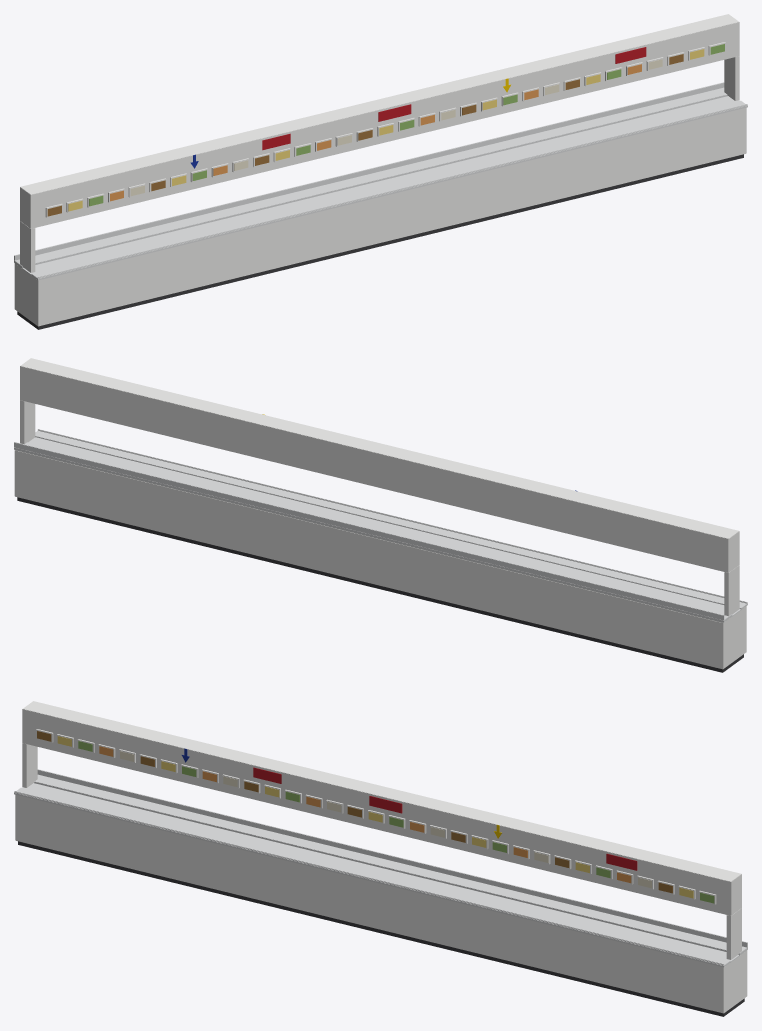
Rendered from Order Pickup Counter.glb.
The picture shows the model from 3 angles, top to bottom: view 1: azimuth 30°, elevation 25°; view 2: azimuth 150°, elevation 25°; view 3: azimuth 330°, elevation 25°; orthographic projection.
Visible parts, largest first — view 1: Pass_Cabinet, Pass_Header, Pass_Top_Rear, Pass_Top_Trough, Pass_Top_Front, Pass_BackUpstand, Pass_ToeKick, Pass_FrontLip, Pass_Jamb_L, Pass_Jamb_R; view 2: Pass_Cabinet, Pass_Header, Pass_Top_Front, Pass_Top_Trough, Pass_Top_Rear, Pass_BackUpstand, Pass_ToeKick, Pass_FrontLip, Pass_Jamb_L, Pass_Jamb_R; view 3: Pass_Cabinet, Pass_Header, Pass_Top_Rear, Pass_Top_Trough, Pass_Top_Front, Pass_BackUpstand, Pass_ToeKick, Pass_FrontLip, Pass_Jamb_R, Pass_Jamb_L.
Boxes of the visible parts, x1=… form: Pass_Cabinet: x1=14, y1=107, x2=746, y2=326; Pass_Header: x1=20, y1=14, x2=739, y2=228; Pass_Top_Rear: x1=14, y1=87, x2=727, y2=268; Pass_Top_Trough: x1=22, y1=96, x2=739, y2=275; Pass_Top_Front: x1=31, y1=101, x2=747, y2=280; Pass_BackUpstand: x1=14, y1=82, x2=724, y2=260; Pass_ToeKick: x1=17, y1=154, x2=743, y2=329; Pass_FrontLip: x1=37, y1=104, x2=747, y2=278; Pass_Jamb_L: x1=20, y1=221, x2=35, y2=272; Pass_Jamb_R: x1=724, y1=56, x2=739, y2=100; Pass_Cabinet: x1=14, y1=450, x2=746, y2=669; Pass_Header: x1=20, y1=358, x2=739, y2=572; Pass_Top_Front: x1=35, y1=430, x2=747, y2=609; Pass_Top_Trough: x1=28, y1=437, x2=741, y2=616; Pass_Top_Rear: x1=14, y1=442, x2=732, y2=622; Pass_BackUpstand: x1=14, y1=442, x2=724, y2=620; Pass_ToeKick: x1=17, y1=497, x2=743, y2=672; Pass_FrontLip: x1=38, y1=429, x2=747, y2=603; Pass_Jamb_L: x1=724, y1=565, x2=739, y2=616; Pass_Jamb_R: x1=20, y1=400, x2=35, y2=444; Pass_Cabinet: x1=15, y1=794, x2=747, y2=1013; Pass_Header: x1=22, y1=701, x2=741, y2=915; Pass_Top_Rear: x1=34, y1=774, x2=747, y2=955; Pass_Top_Trough: x1=22, y1=783, x2=739, y2=962; Pass_Top_Front: x1=14, y1=788, x2=730, y2=967; Pass_BackUpstand: x1=37, y1=769, x2=747, y2=947; Pass_ToeKick: x1=18, y1=841, x2=744, y2=1016; Pass_FrontLip: x1=14, y1=791, x2=724, y2=965; Pass_Jamb_R: x1=726, y1=908, x2=741, y2=959; Pass_Jamb_L: x1=22, y1=743, x2=37, y2=787.
Size of the model in its own units: 13.02 by 2.3 by 0.775.
